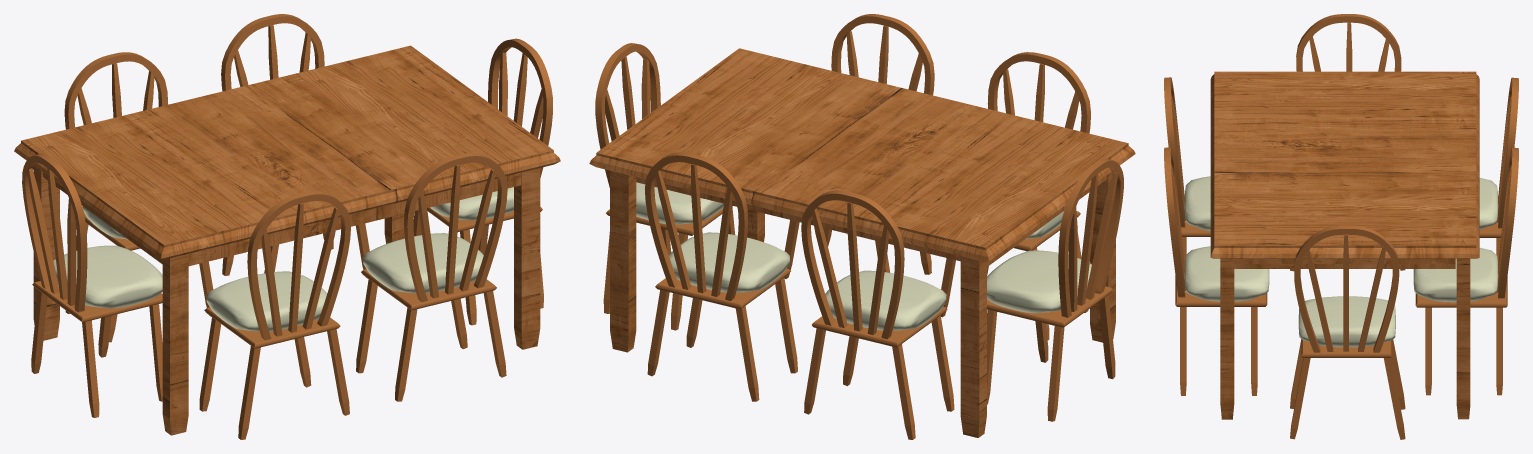
File: dining-room.fbx
3 renders of one model, left to right at view 1: azimuth 30°, elevation 25°; view 2: azimuth 150°, elevation 25°; view 3: azimuth 270°, elevation 25°, orthographic. The views are drawn at different scales.
Parts seen in each view (by area): view 1: polySurface44, pCube16, pCube17, pCube20, pCube21, pCube18, pCube19; view 2: polySurface44, pCube18, pCube19, pCube20, pCube21, pCube16, pCube17; view 3: polySurface44, pCube21, pCube17, pCube19, pCube16, pCube18, pCube20.
Boxes of the visible parts, x1,y1,x2,y2 form: polySurface44: (14, 45, 560, 435); pCube16: (199, 191, 350, 439); pCube17: (356, 153, 507, 401); pCube20: (22, 153, 162, 417); pCube21: (413, 38, 552, 325); pCube18: (64, 52, 213, 342); pCube19: (221, 14, 369, 278); polySurface44: (589, 48, 1135, 437); pCube18: (801, 190, 954, 439); pCube19: (645, 152, 797, 401); pCube20: (987, 158, 1123, 421); pCube21: (595, 43, 735, 330); pCube16: (940, 52, 1090, 340); pCube17: (784, 14, 934, 278); polySurface44: (1210, 71, 1479, 419); pCube21: (1290, 225, 1405, 439); pCube17: (1164, 147, 1269, 395); pCube19: (1413, 147, 1518, 395); pCube16: (1164, 77, 1210, 264); pCube18: (1479, 77, 1518, 265); pCube20: (1290, 14, 1405, 271).
Size of the model in its own units: 55.75 by 26.45 by 38.91.
Materials: 2 (1 with a texture image).
